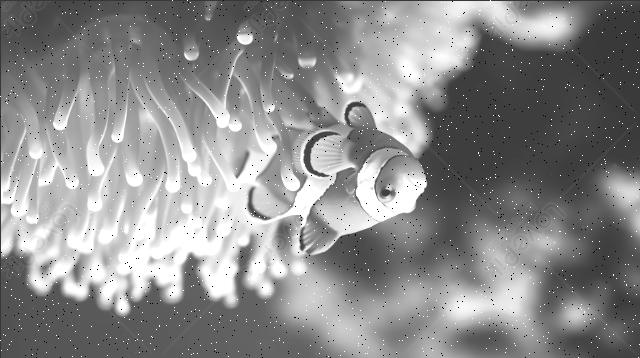Mulut: (396, 152, 438, 203)
Sirip Dada: (284, 114, 358, 180)
Sirip Perut: (306, 92, 390, 142)
Sirip Punggung: (240, 176, 352, 268)
